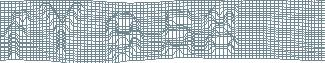5: (159, 8, 197, 58)
9: (104, 11, 146, 63)
Y: (38, 2, 84, 56)
f: (3, 9, 31, 62)
g: (201, 6, 239, 58)
